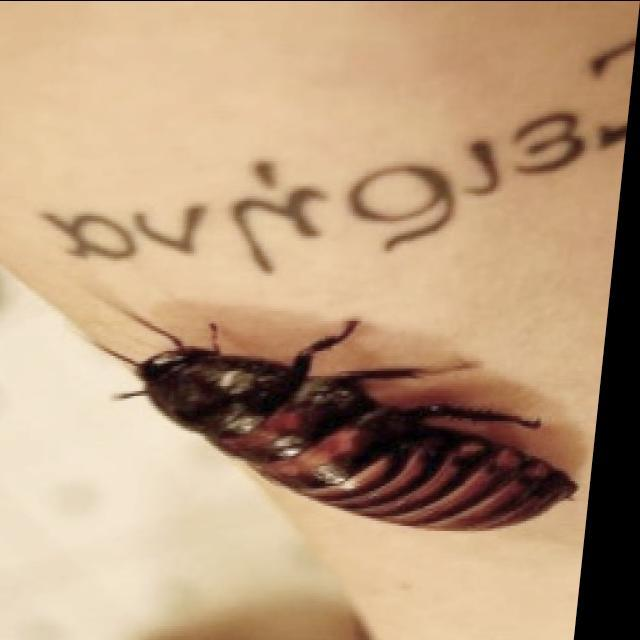cockroach: (99, 304, 581, 537)
